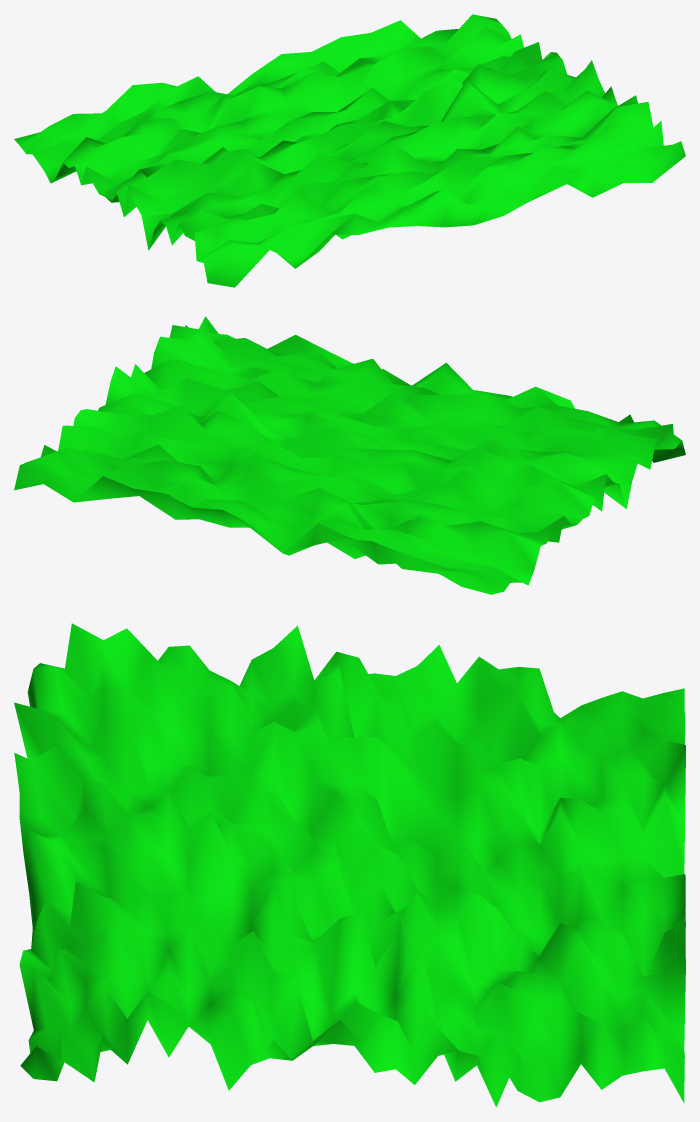
The model's file is GroundGrass.fbx.
3 views of the same model, one above another, from view 1: azimuth 30°, elevation 25°; view 2: azimuth 150°, elevation 25°; view 3: azimuth 270°, elevation 25° (orthographic). The views are drawn at different scales.
Visible parts, largest first — view 1: Plane; view 2: Plane; view 3: Plane.
Part boxes in pixels (bbox=[...]): Plane: bbox=[14, 14, 685, 287]; Plane: bbox=[14, 316, 685, 594]; Plane: bbox=[14, 623, 685, 1107].
Size of the model in its own units: 876 by 108 by 631.
